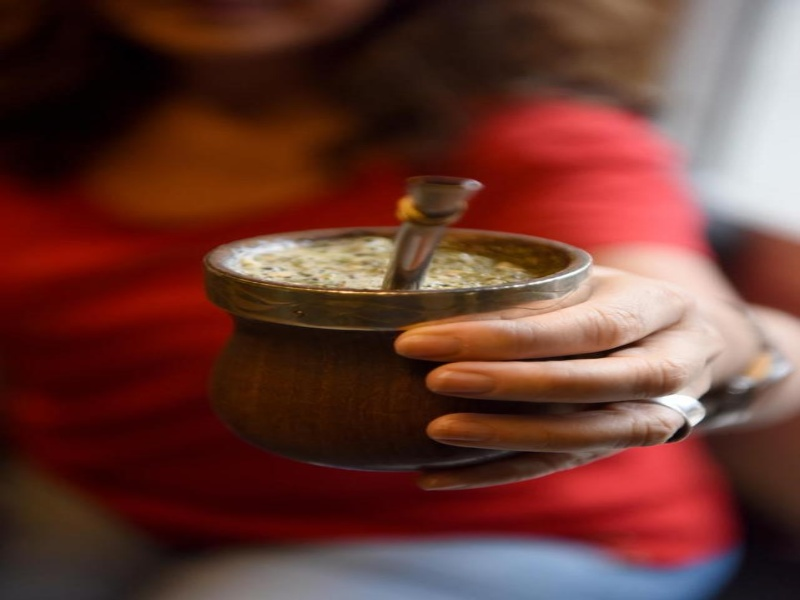guampa: (181, 163, 605, 491)
